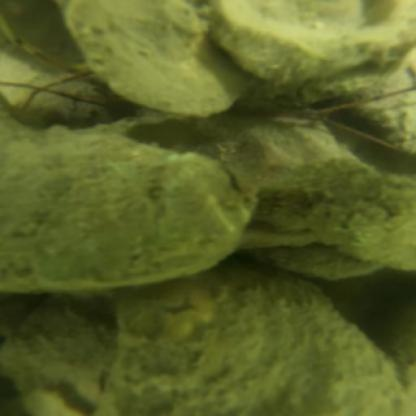Oyster-Closed: (101, 273, 407, 416), (0, 132, 241, 291), (228, 122, 408, 261), (64, 0, 241, 119), (210, 0, 396, 92), (2, 299, 114, 410)
